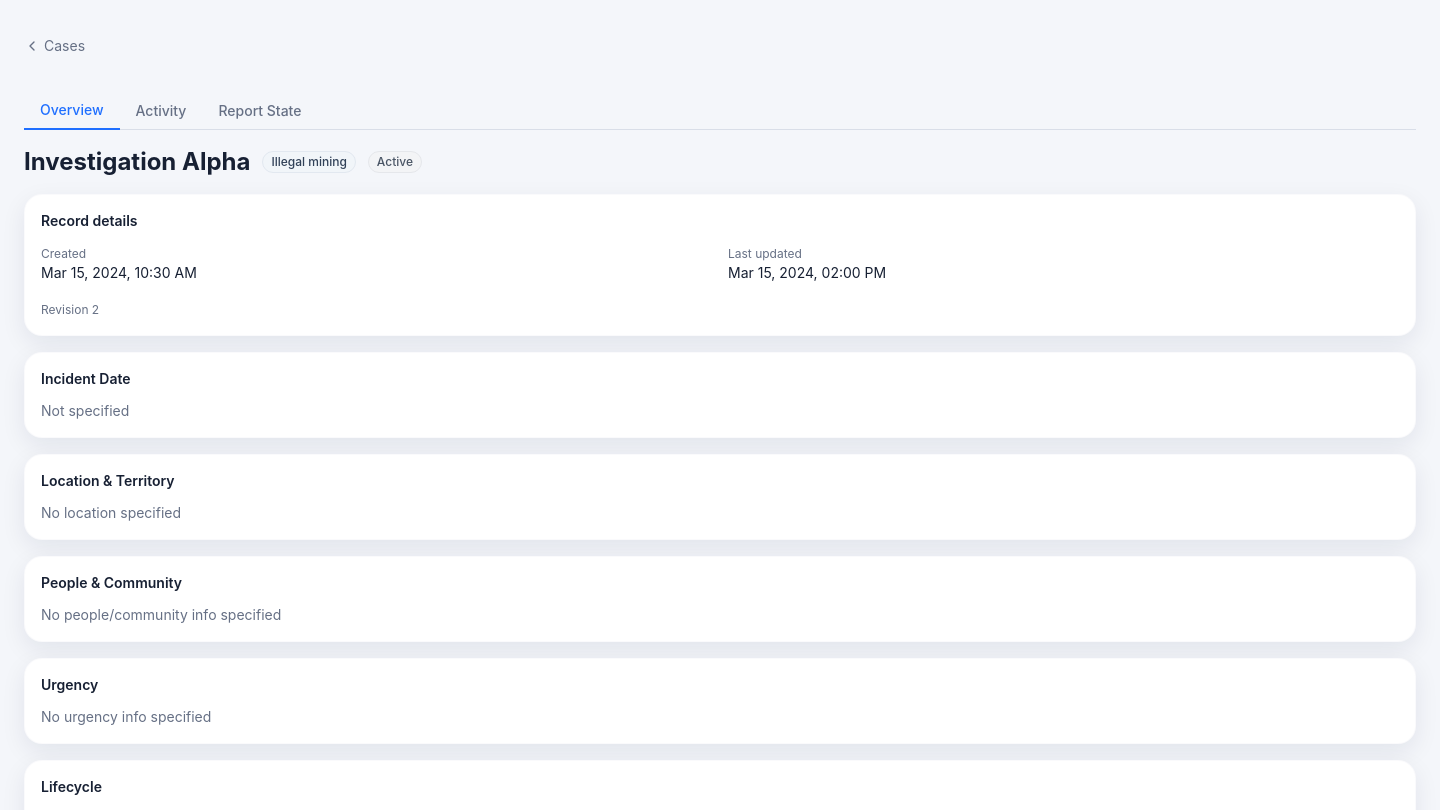
Test: CaseDetailScreen › activity tab › renders metadata-only activity events without case factual content
# Click the Activity tab
Click the tab "Activity": {"x": 161, "y": 111} [120, 92, 202, 130]
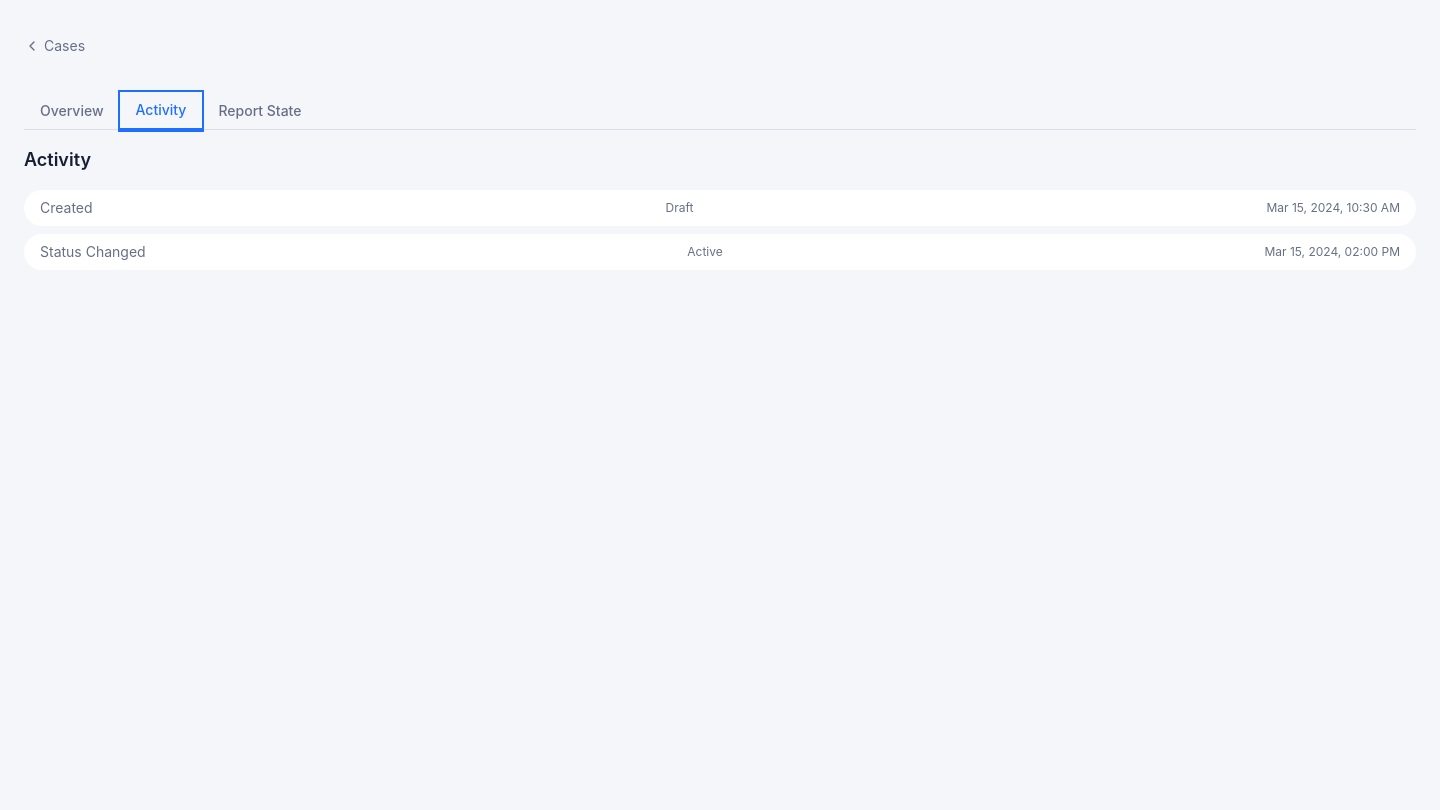
Expected: the text "Created" is shown, [40, 198, 93, 218]
Result: the text "Status Changed" is shown at [40, 242, 146, 262]
